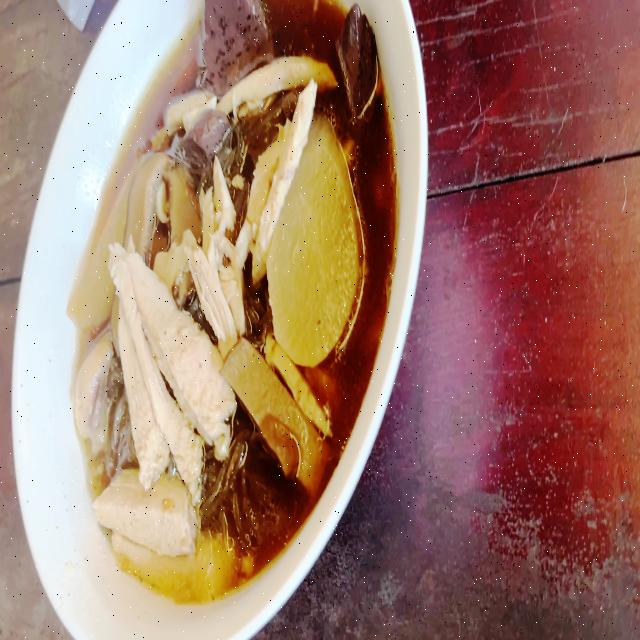boiled_chicken_blood_jelly: (185, 0, 277, 94), (333, 6, 377, 118), (181, 116, 232, 165)
chicken_shredded: (106, 241, 222, 478), (242, 89, 319, 261), (95, 470, 197, 546), (198, 170, 238, 332), (217, 58, 341, 103), (72, 338, 114, 454), (163, 91, 216, 127)
daikon_radish: (278, 156, 358, 364), (70, 149, 129, 331)
noodle: (73, 0, 395, 596)
